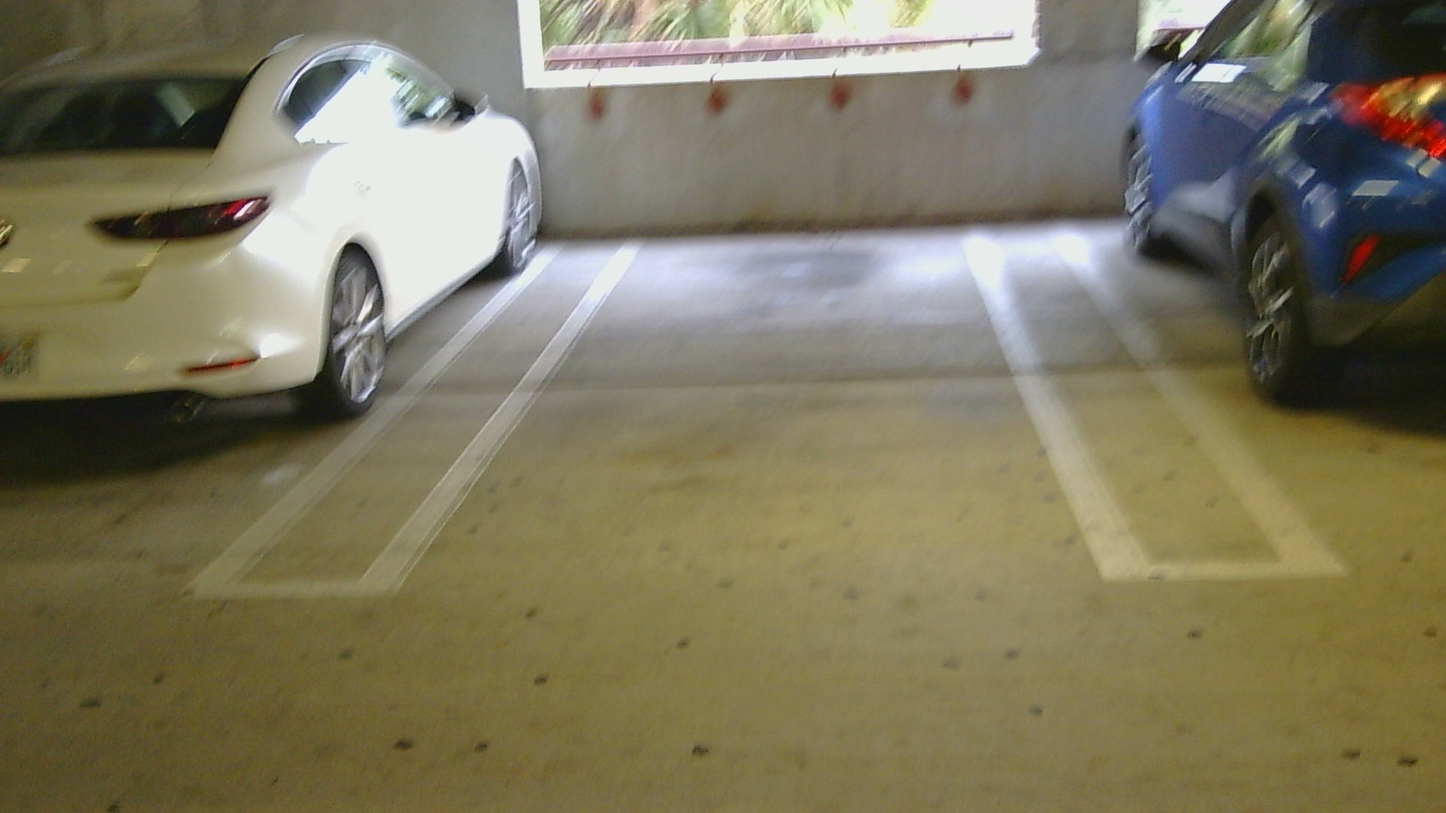empty_spot: (287, 110, 1218, 597)
occupied_spot: (0, 18, 564, 462), (1107, 1, 1445, 442)
